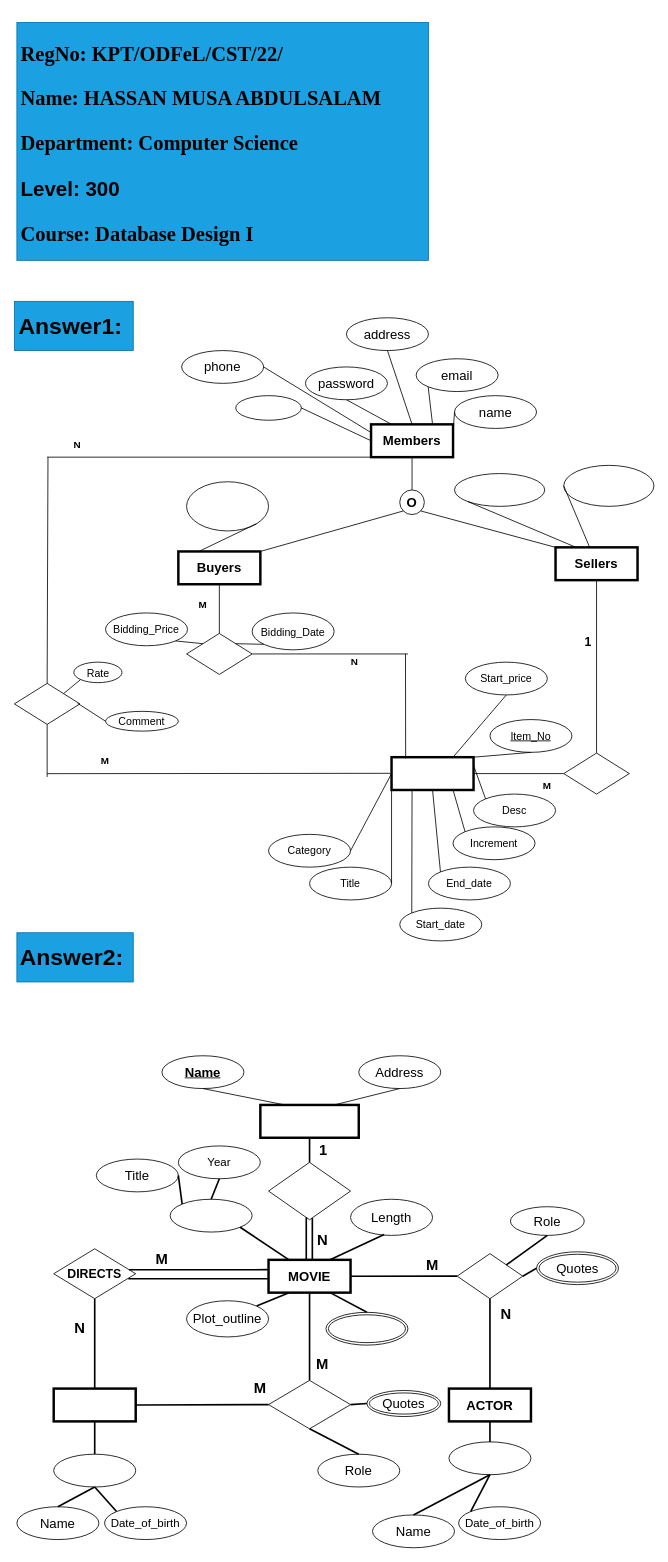
This 668x1562 diagram has some shape labels left out. The shapes that lost their labels are listed below. From the top down, each one's centre as x and y in pixels, then its label:
At (x=268, y=407): "ID".
At (x=499, y=489): "Account_No".
At (x=608, y=485): "Routing Number".
At (x=227, y=506): "Shipping Address".
At (x=219, y=653): "Bids".
At (x=47, y=703): "Feedback".
At (x=432, y=773): "Items".
At (x=596, y=773): "Place".
At (x=309, y=1121): "PRODUCTION".
At (x=309, y=1191): "PRODUCES".
At (x=210, y=1215): "Mkey".
At (x=489, y=1276): "ACTS".
At (x=366, y=1328): "Genre".
At (x=94, y=1404): "DIRECTOR".
At (x=309, y=1404): "DIR_ACTS".
At (x=94, y=1470): "Dkey".
At (x=489, y=1458): "Akey".
